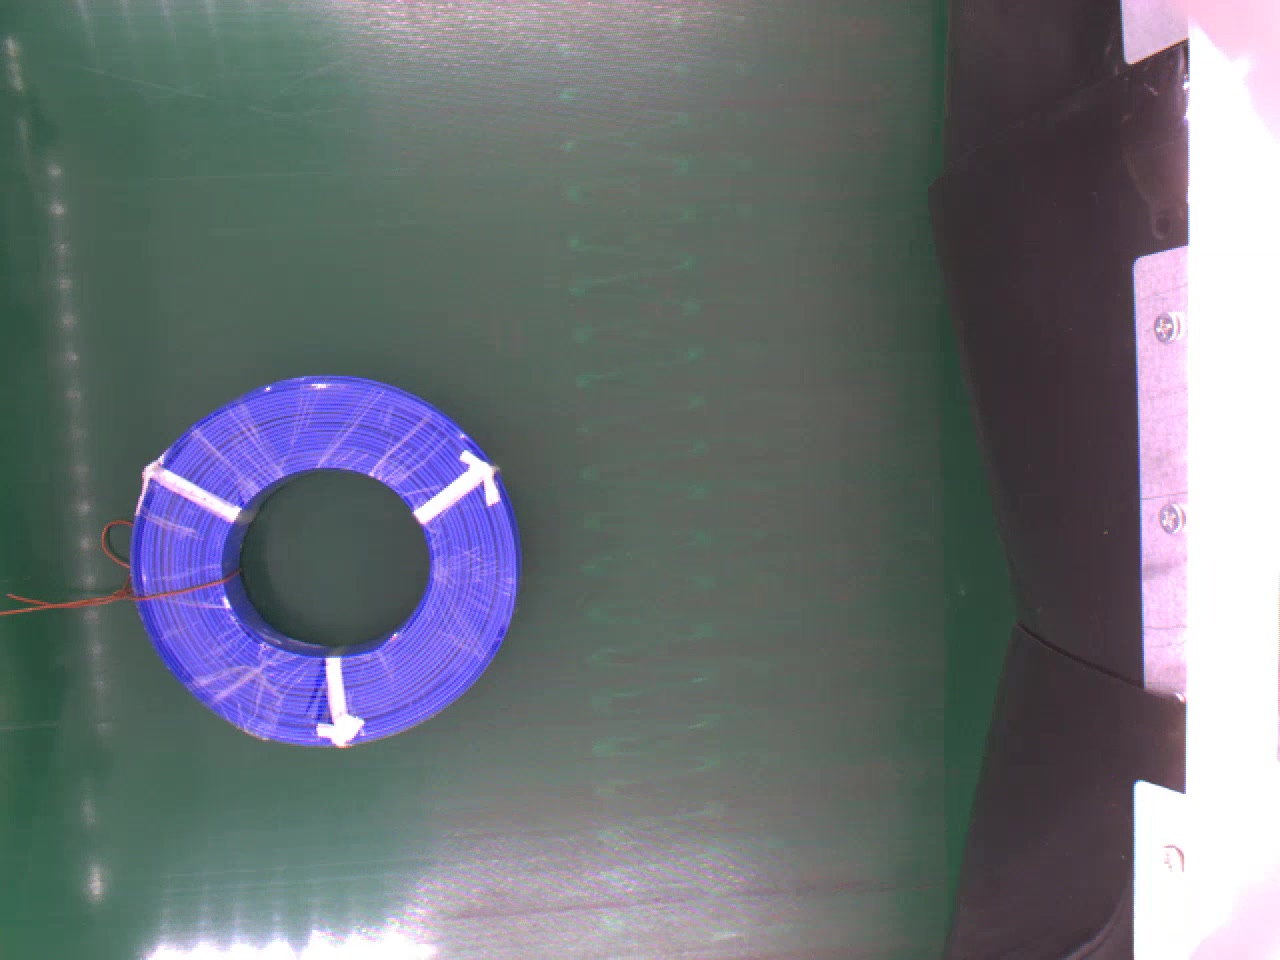blue: (129, 372, 522, 745)
